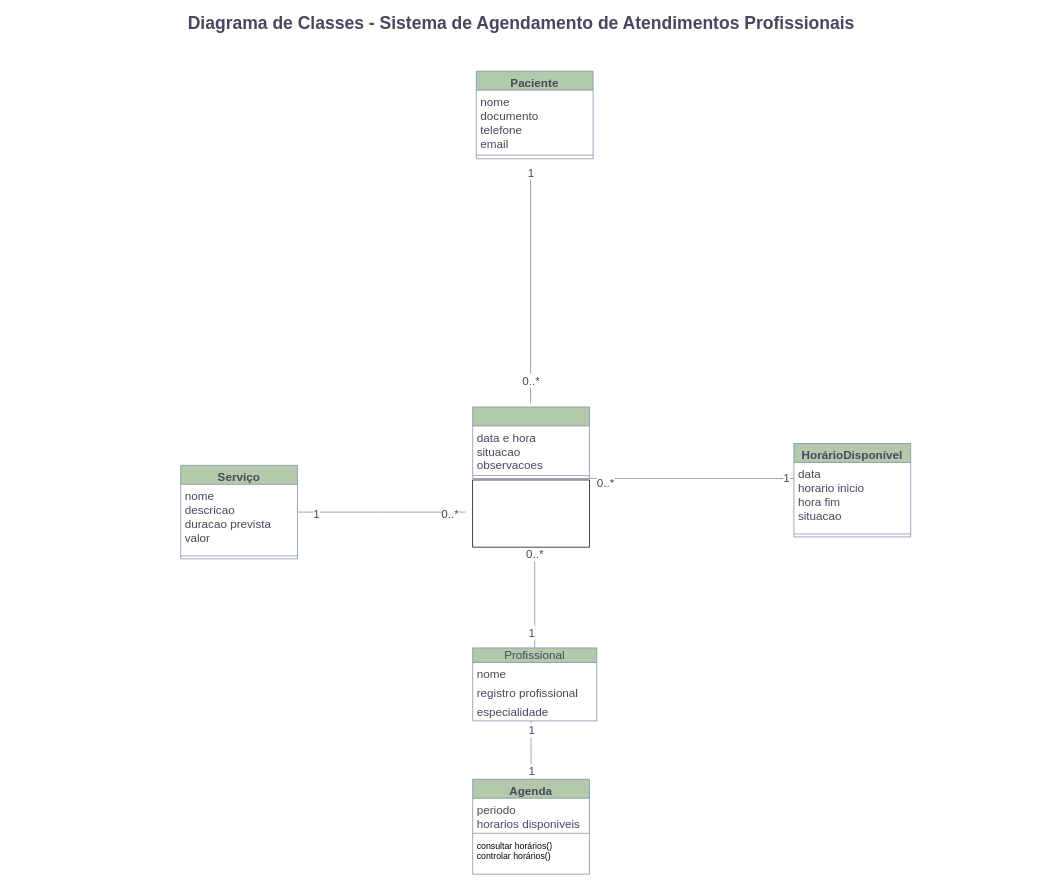
Some shapes in this 1047 by 888 pixel diagram are drawn without their labels. The box of each missing label's shape, as (x1, y1, x2, y2) in pixels:
Agendamento: (472, 406, 589, 479)
confirmar() cancelar() remarcar(): (472, 479, 589, 547)
